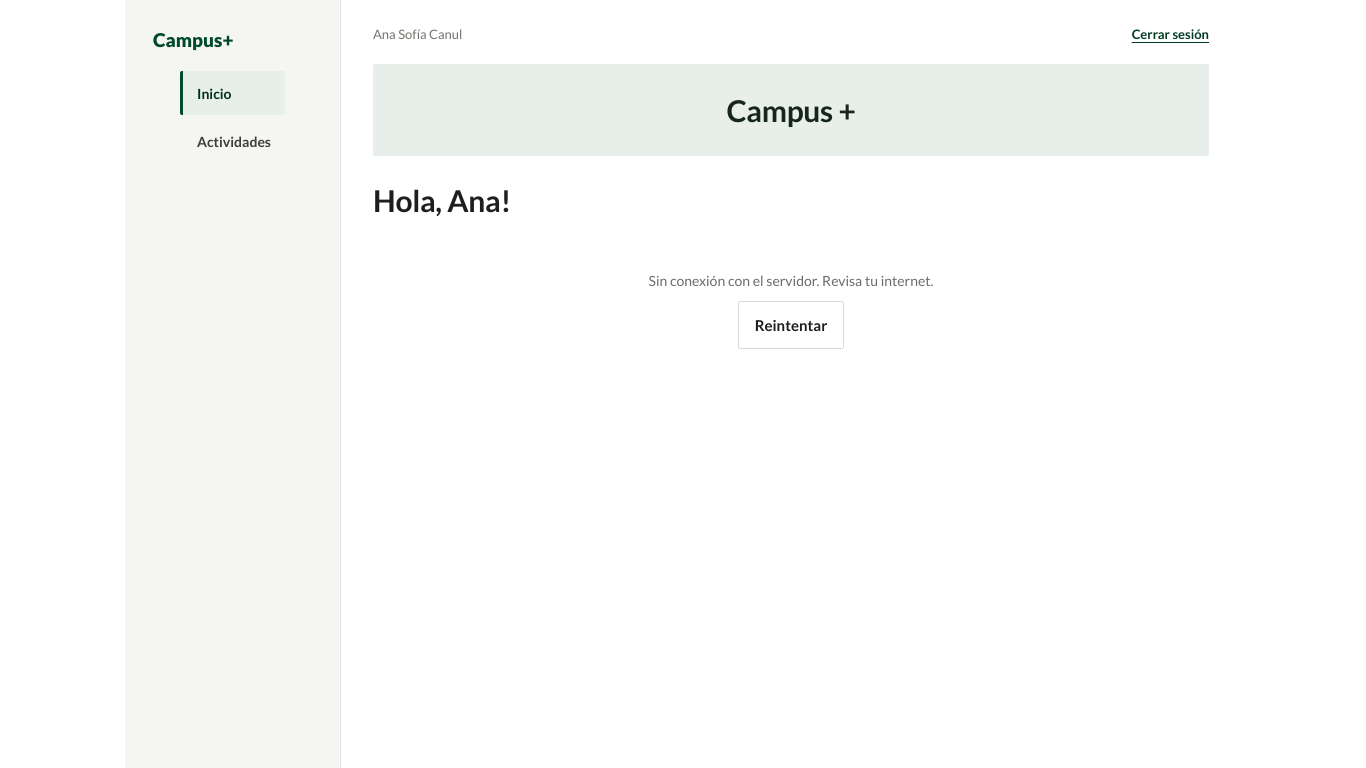
Manejo de errores › muestra un mensaje y permite reintentar si falla la carga
expect the message shows "Sin conexión": met, box top-left (648, 272), bottom-right (934, 289)
Click the button "Reintentar" at (791, 325), box top-left (738, 301), bottom-right (844, 349)
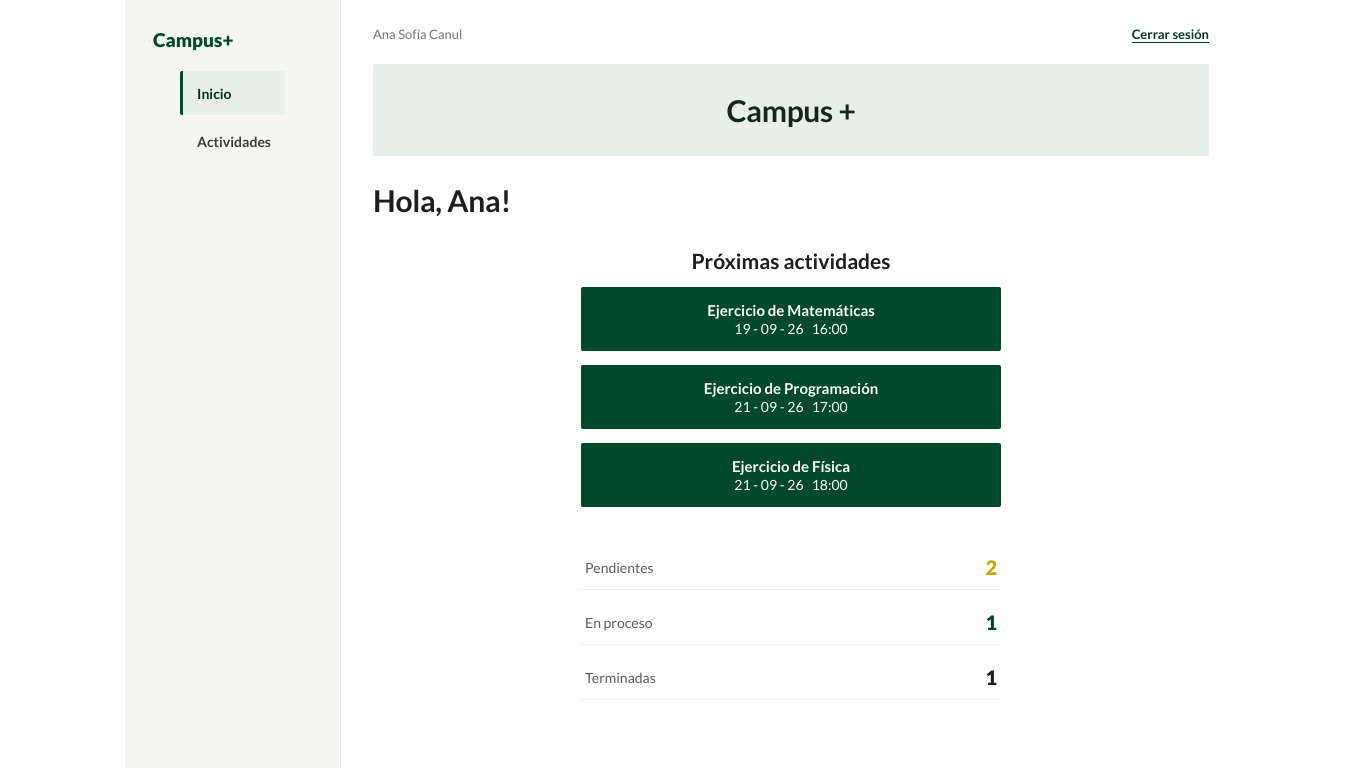
expect the text "Ejercicio de Matemáticas" is shown: met, box top-left (707, 301), bottom-right (875, 319)
